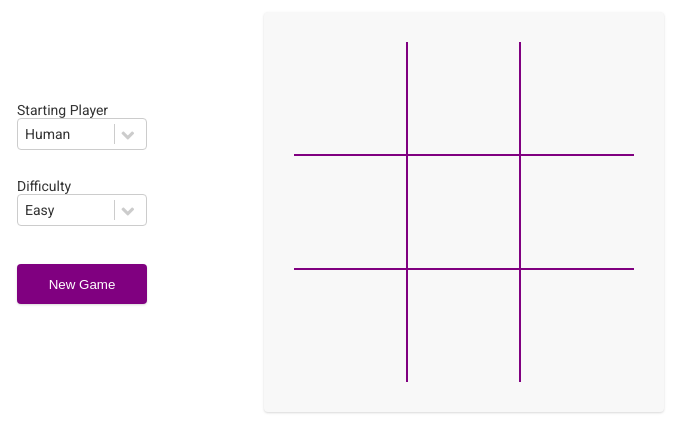
Test case: My tic-tac-toe board › it should update cell clicked with 'x'
Step 1. Click the element with test id "cell-0" → (350, 98), box [294,42,407,155]
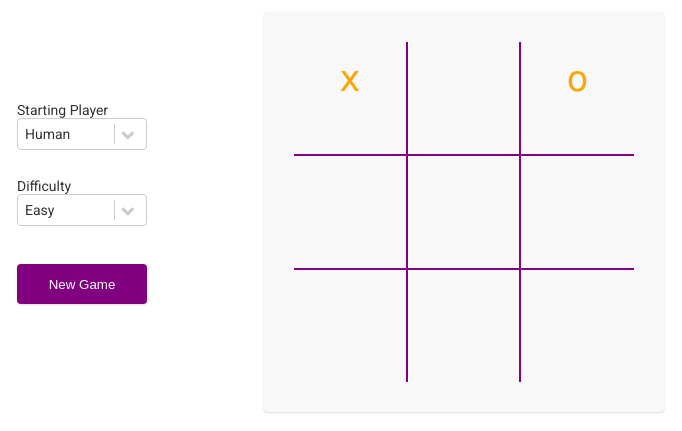
Expected: the text "x" is shown, [340,59,360,99]
